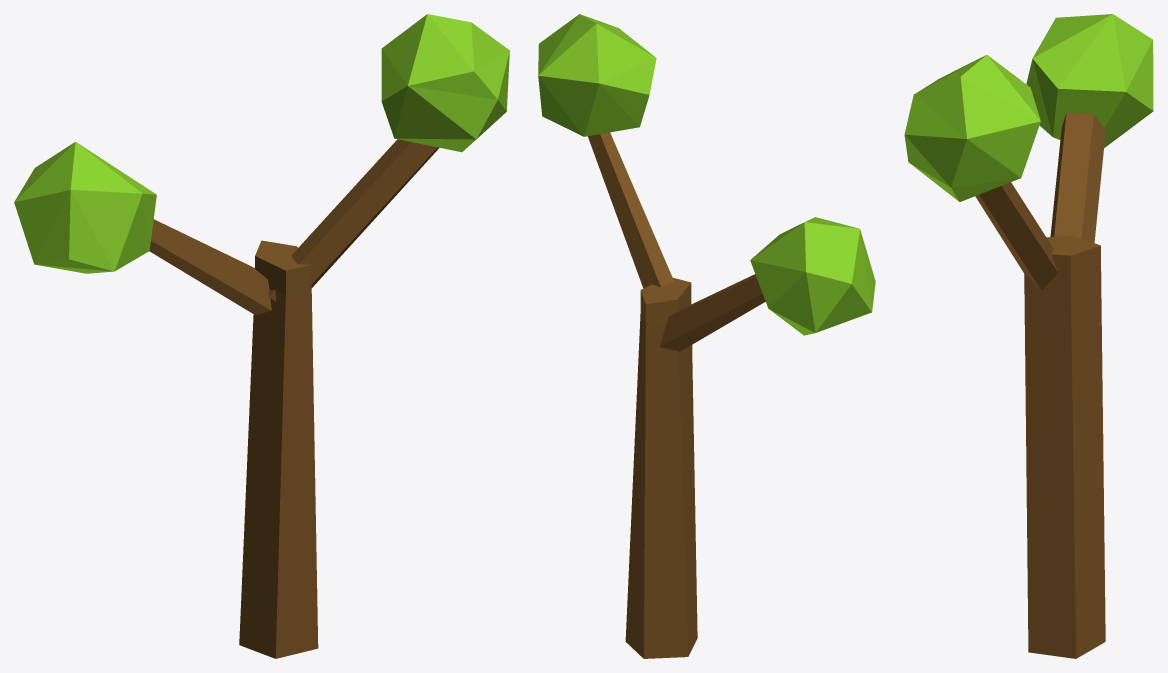
The model's file is low_poly_tree_002.fbx.
3 views of the same model, side by side, from view 1: azimuth 30°, elevation 25°; view 2: azimuth 150°, elevation 25°; view 3: azimuth 270°, elevation 25° (orthographic). The views are drawn at different scales.
Parts seen in each view (by area): view 1: Tree 2; view 2: Tree 2; view 3: Tree 2.
Part boxes in pixels (x1,y1,x2,y2): Tree 2: (14,14,509,658); Tree 2: (538,14,875,658); Tree 2: (904,14,1153,658).
Size of the model in its own units: 349 by 498 by 175.
